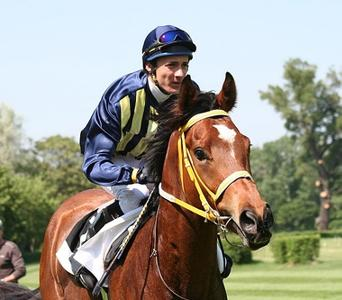person: (72, 24, 229, 293)
